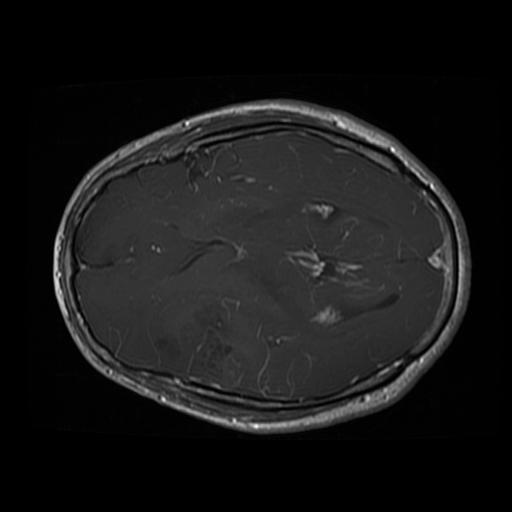glioma: (176, 300, 245, 387)
